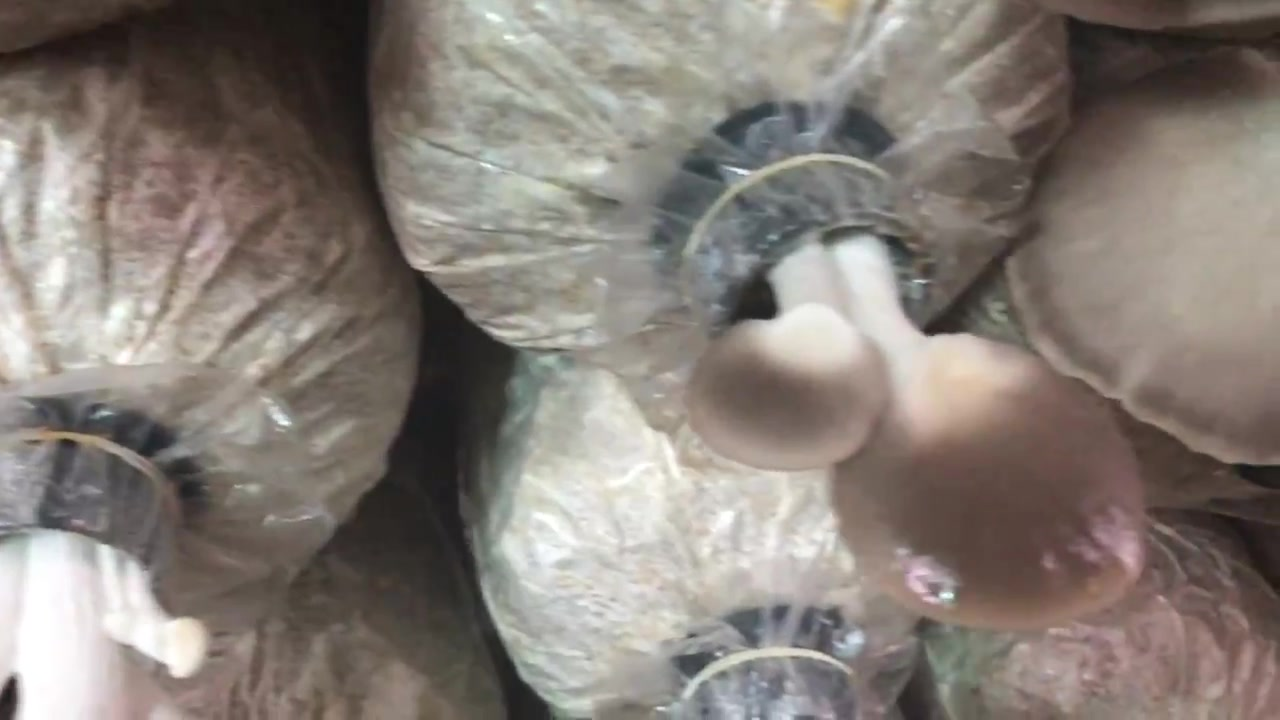nam: (667, 117, 1156, 637)
